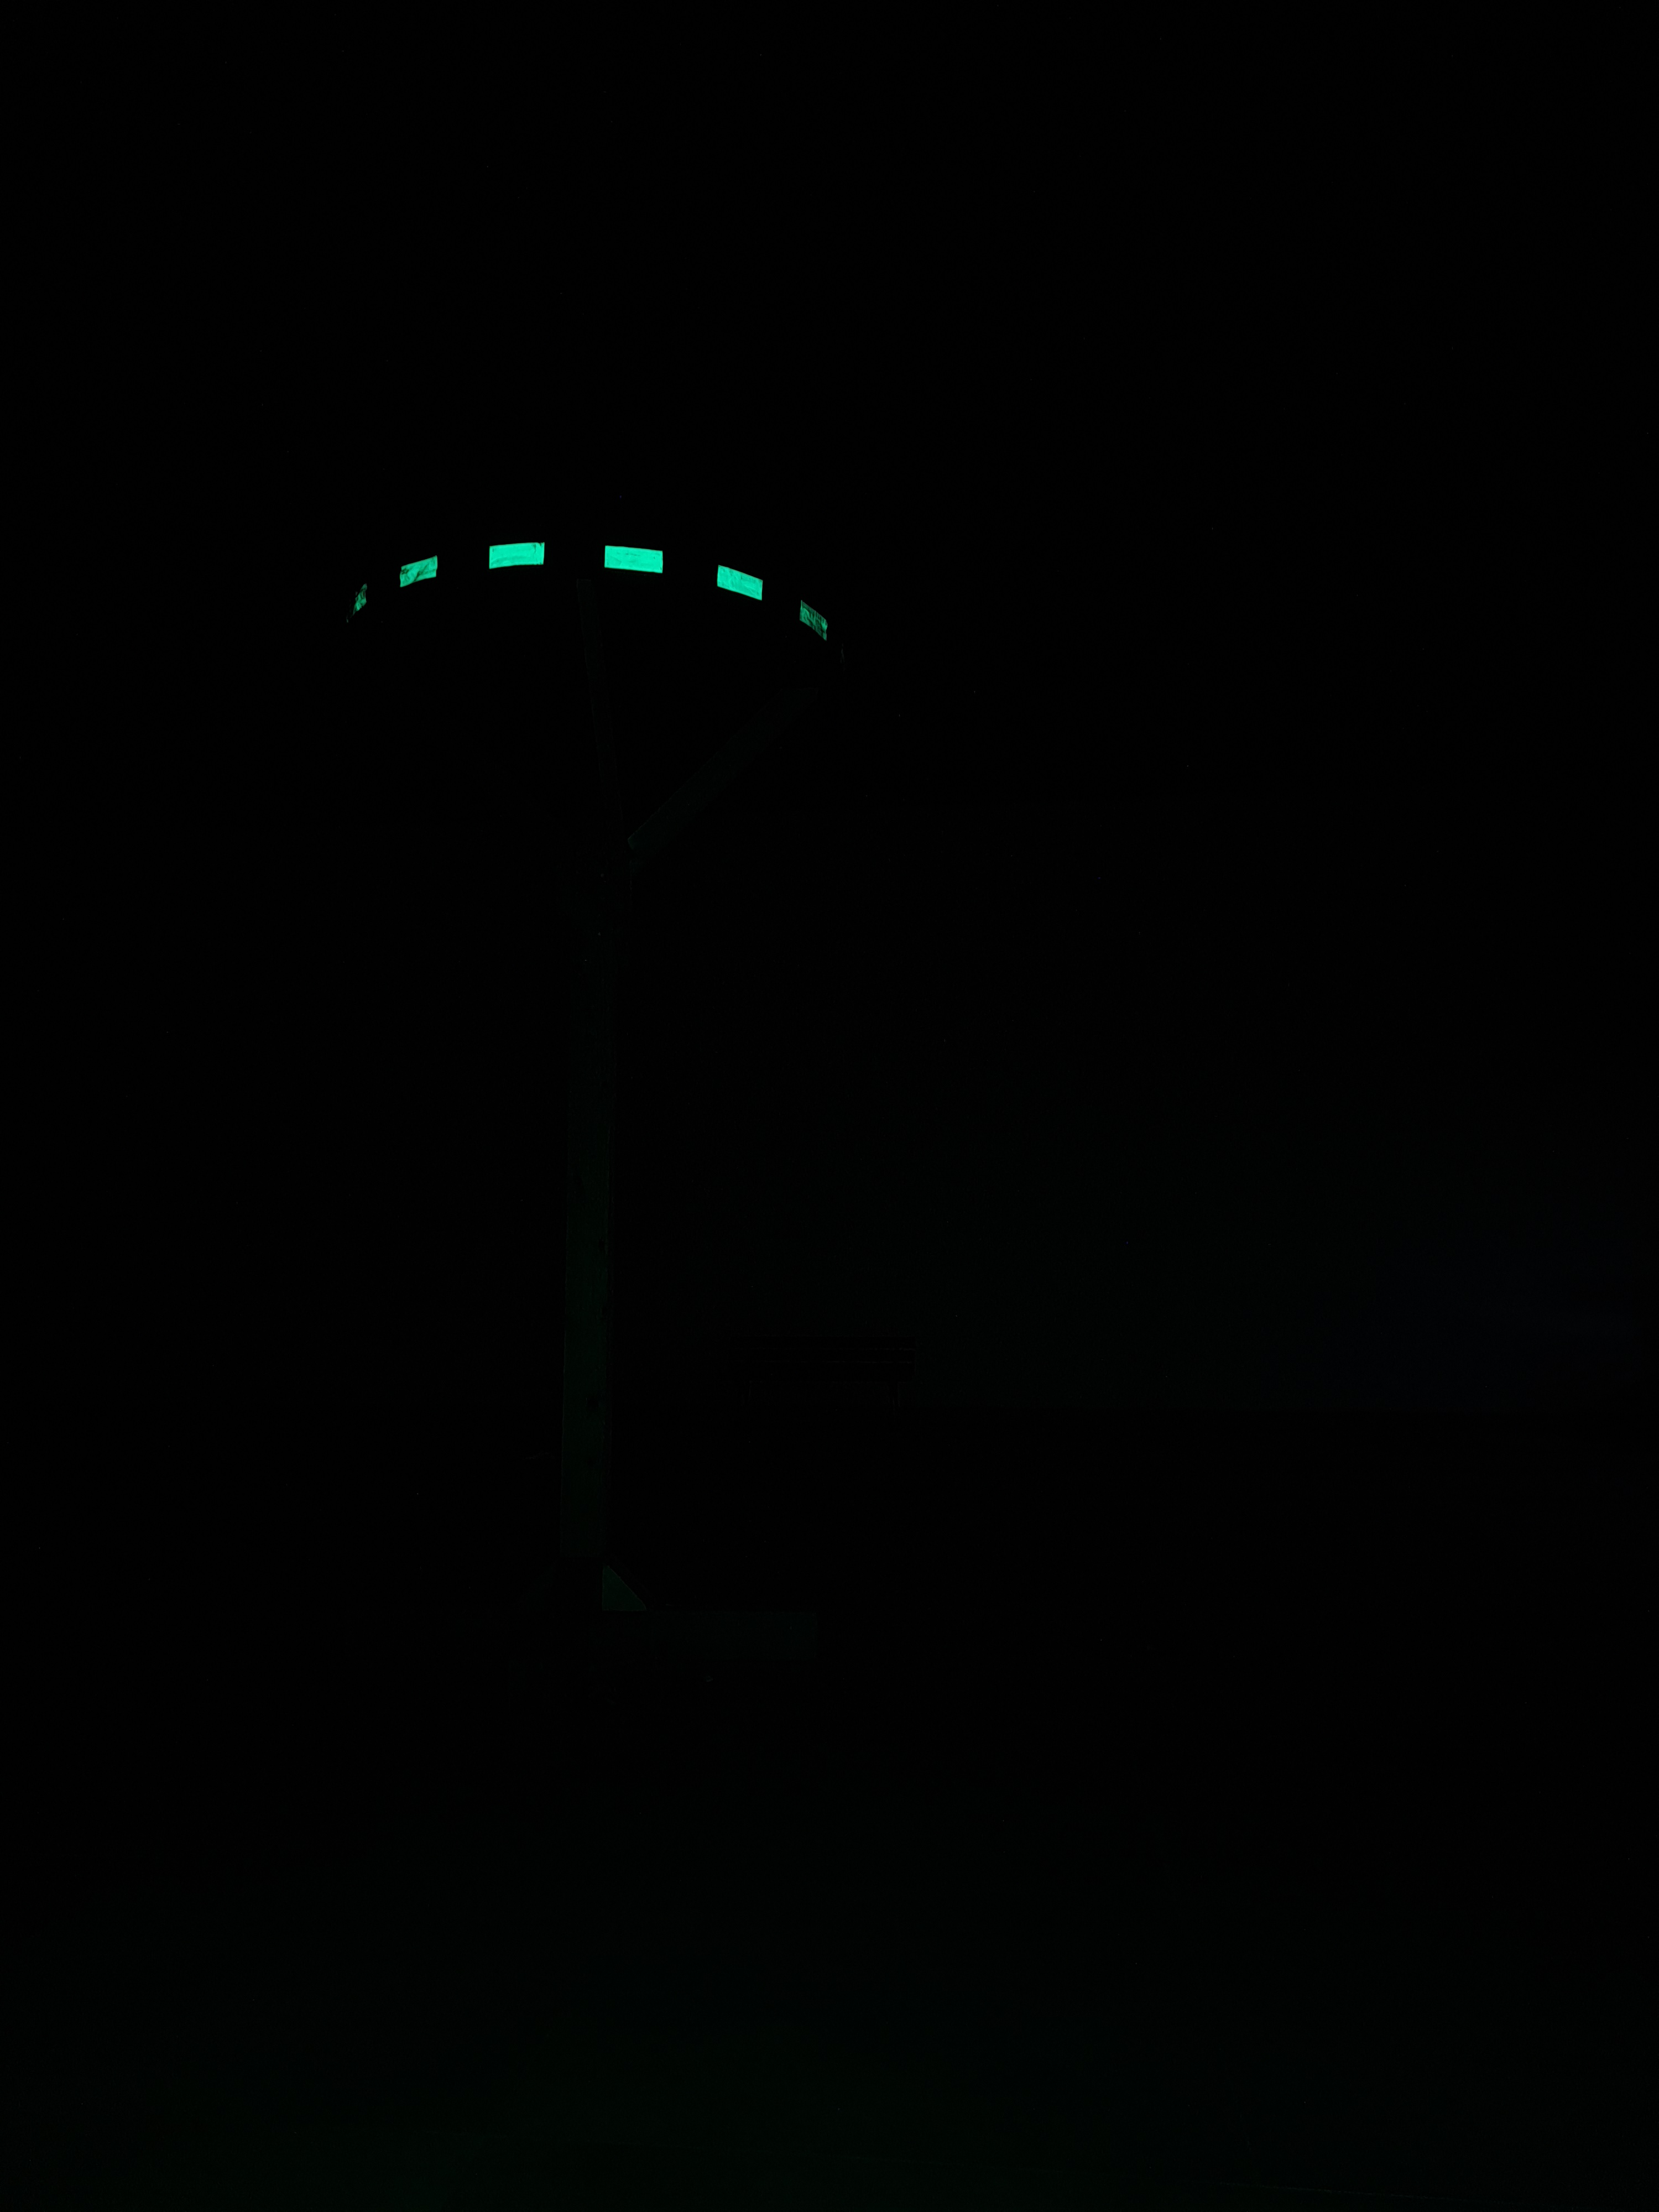hoop: (338, 526, 833, 650)
